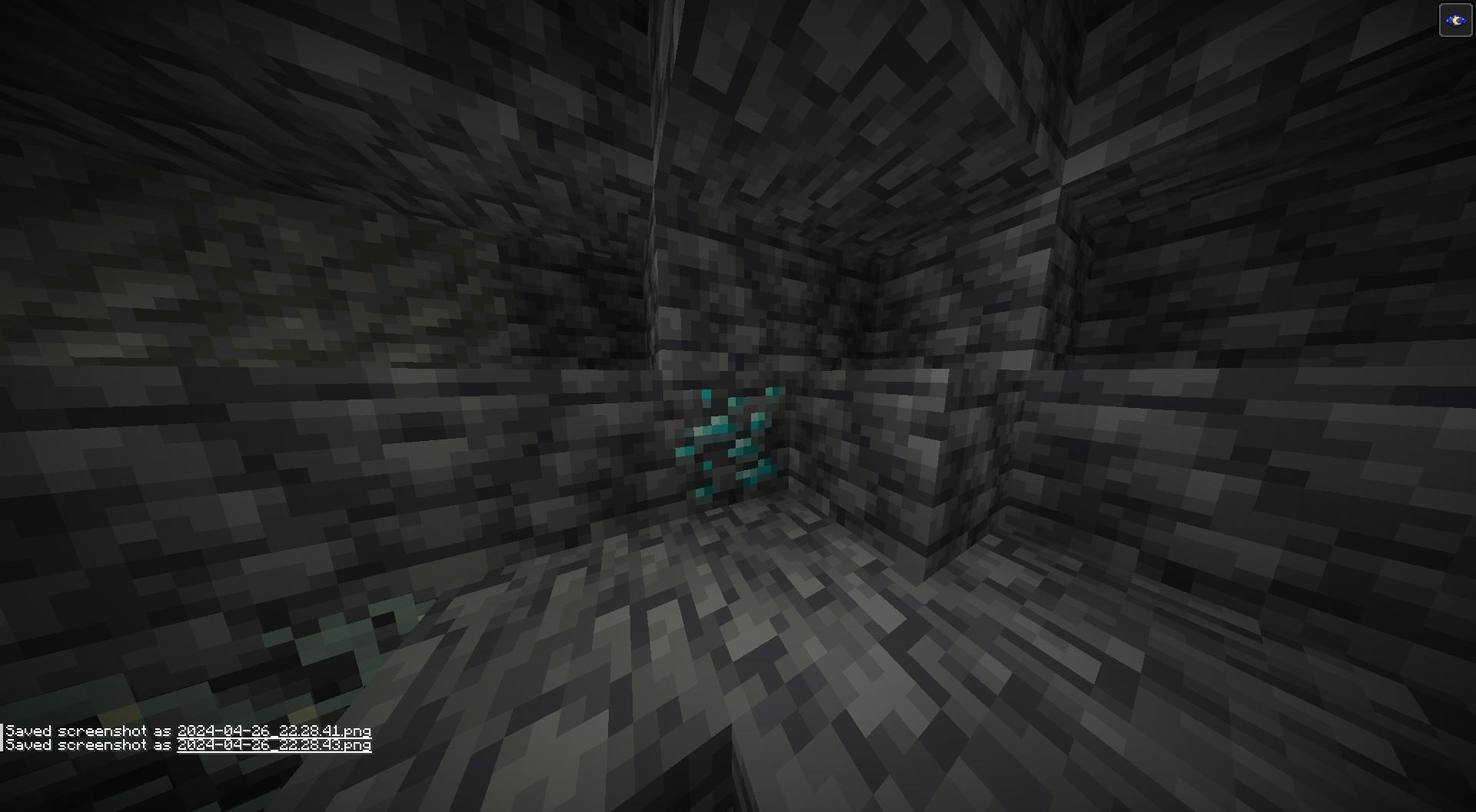diamond ore: (674, 383, 786, 501)
